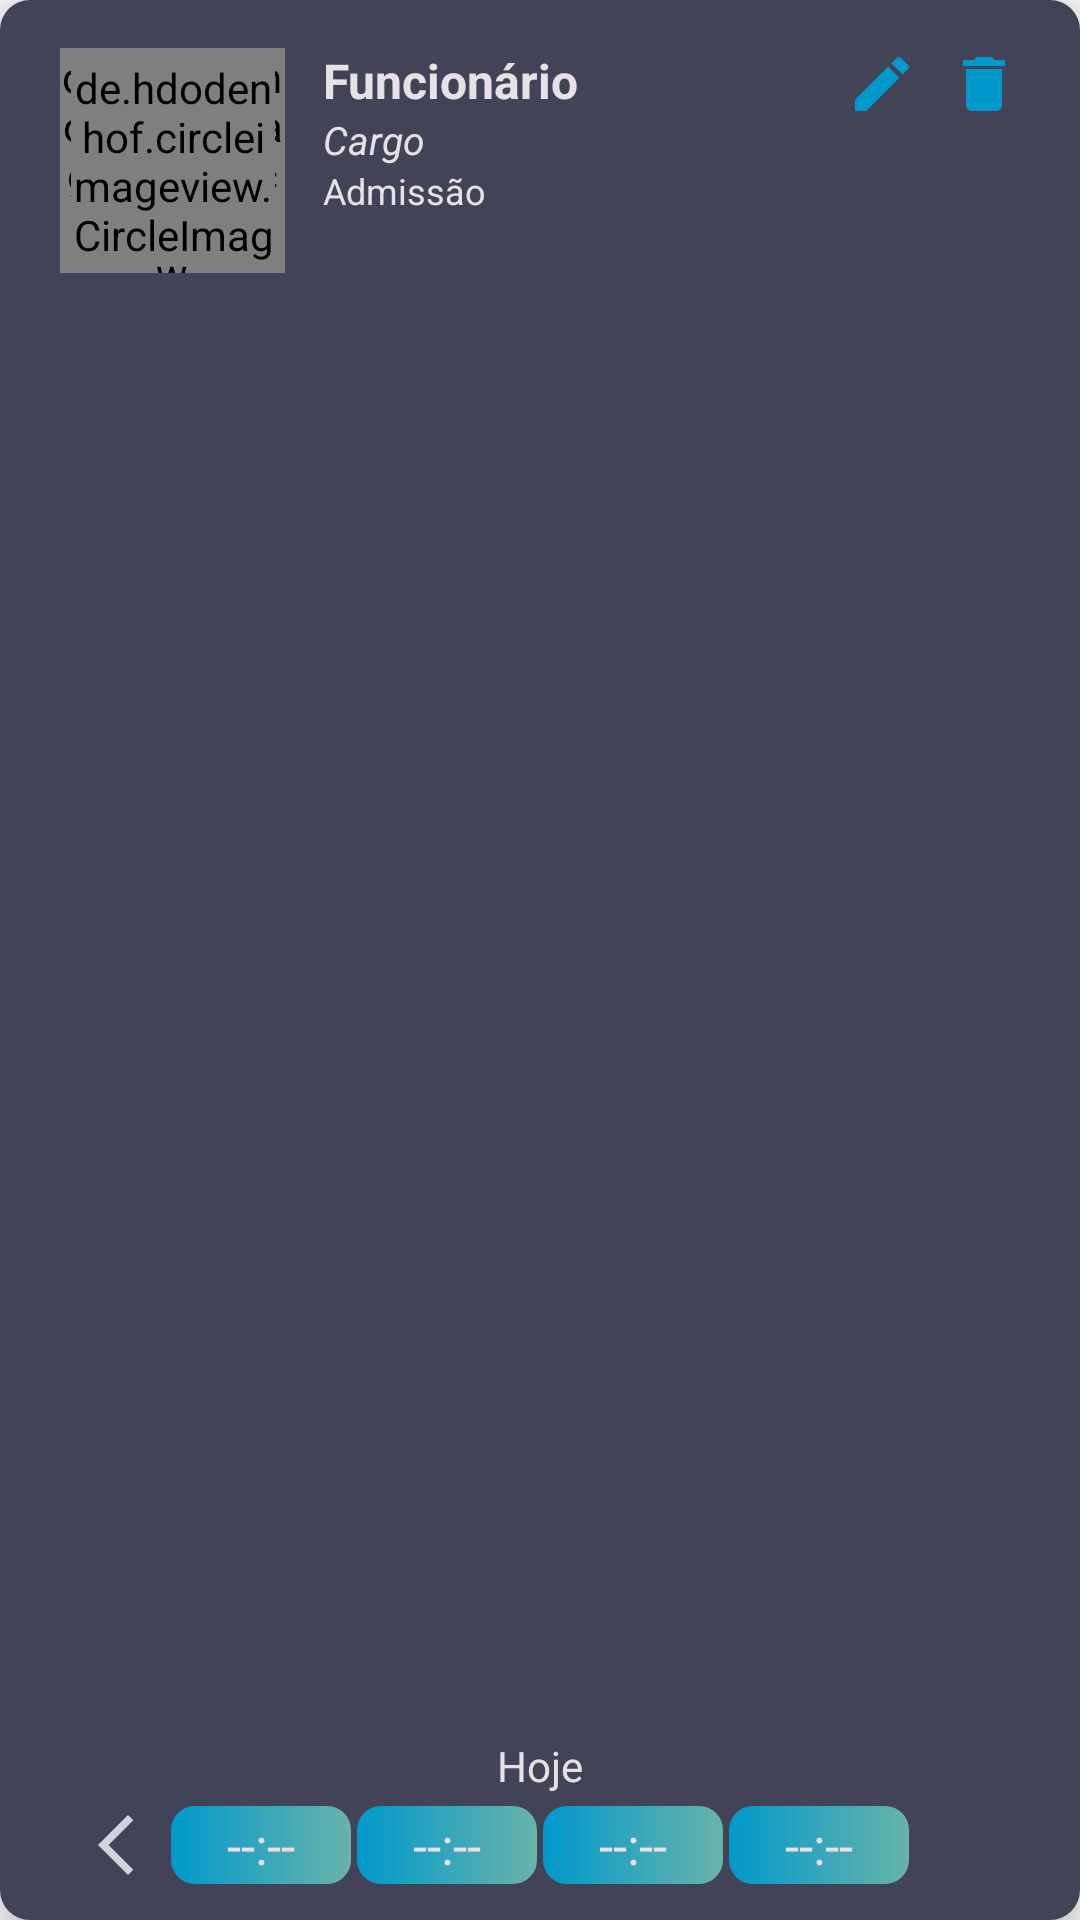

Icons on this 1080 x 1920 Android screen, each with the point to tap as (x,y):
back: (115,1845)
edit: (882,84)
